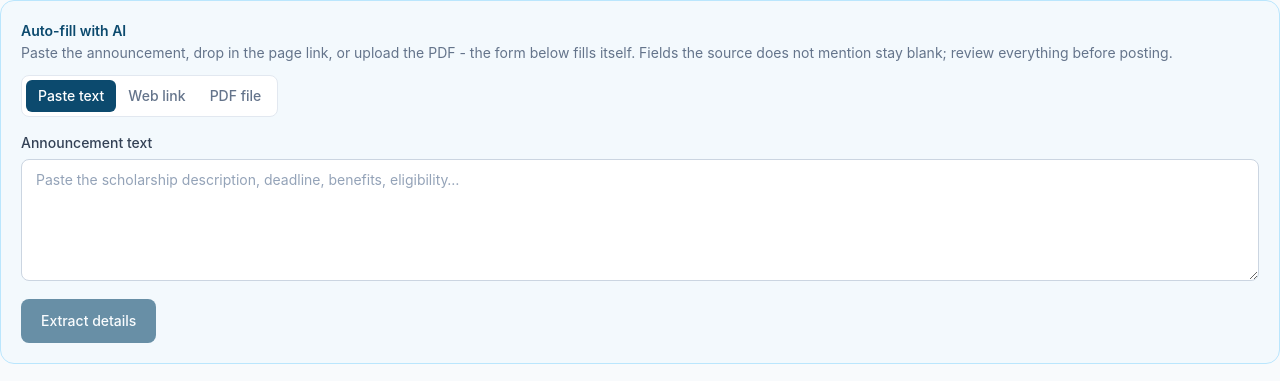
it: ScholarshipExtract › keeps the button disabled until enough text is pasted
This screenshot has width=1280, height=381.
Expected: the button "Extract details" is disabled, [21,299,156,343]
Type "The Example Fellowship 2027 offers fully funded masters study in Germany. Deadline 1 March 2027." into the text box labelled "Announcement text" at (640, 220), box [21,159,1259,281]
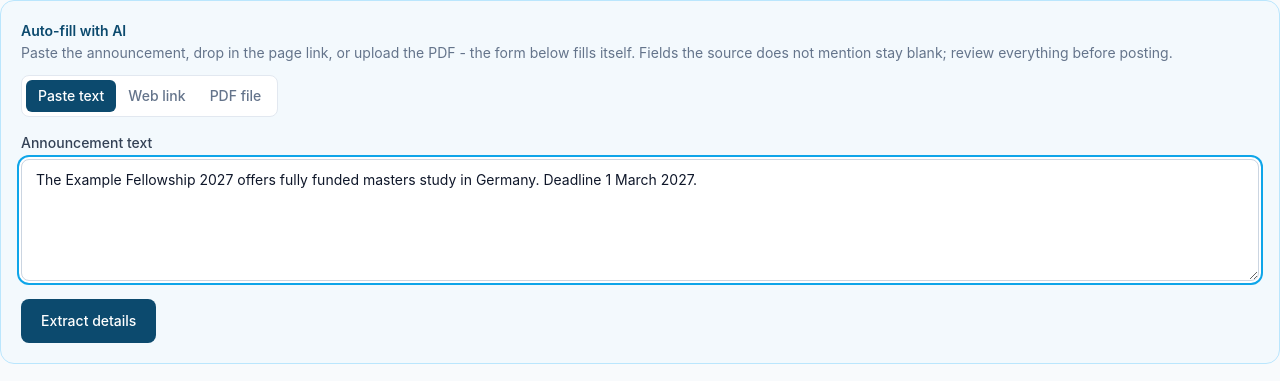
Now the button "Extract details" is enabled, box [21,299,156,343]
